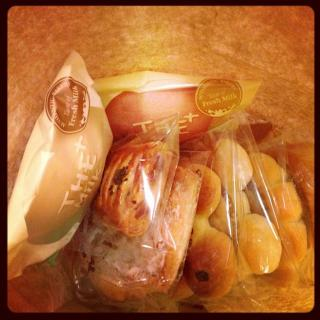Bread: (73, 137, 308, 302), (160, 158, 211, 268)
